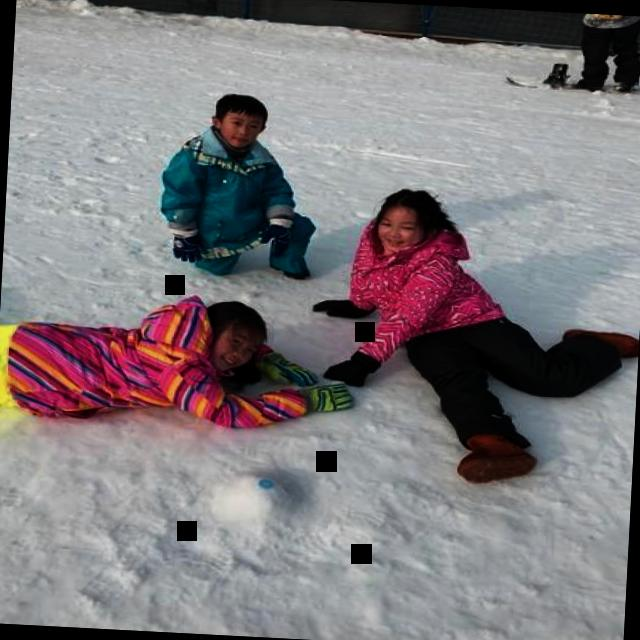Fall-Detected: (0, 282, 329, 453)
